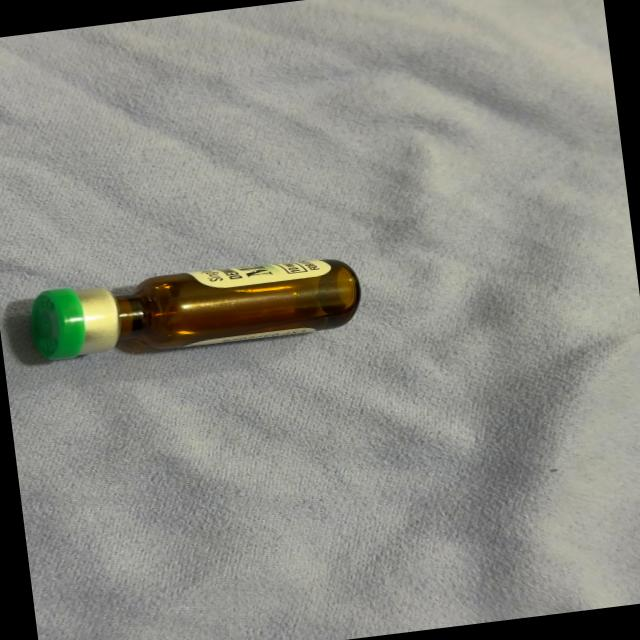midazolm: (31, 252, 358, 364)
